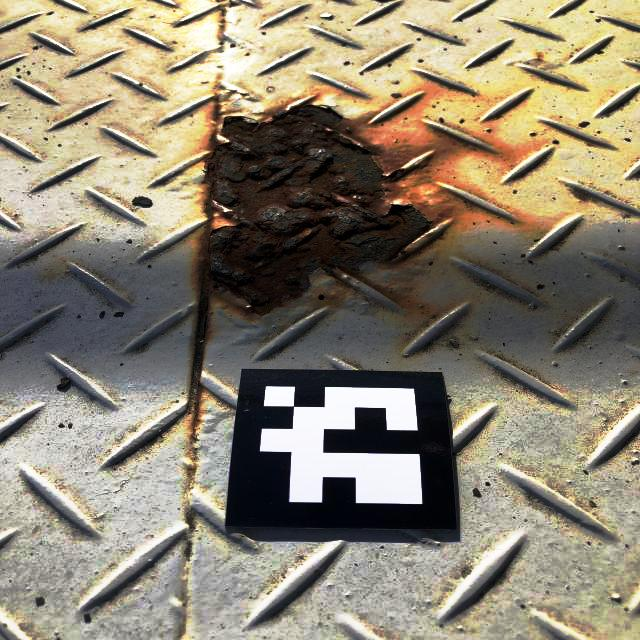Corrosion: (192, 101, 470, 440), (535, 52, 542, 61)
